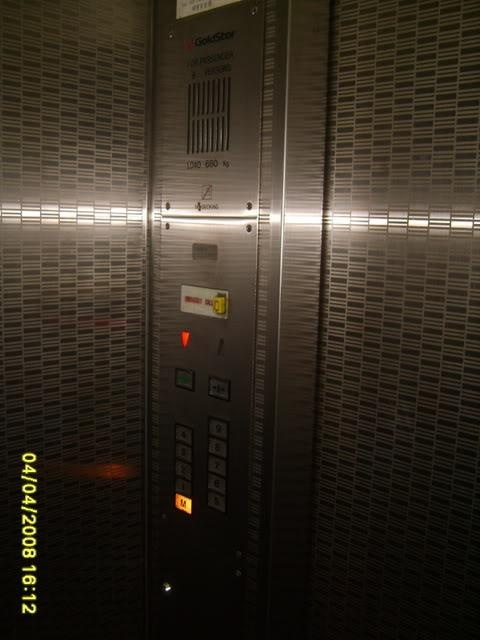1: (174, 476, 194, 496)
2: (174, 458, 194, 480)
4: (174, 422, 194, 445)
6: (206, 469, 229, 496)
7: (206, 453, 229, 478)
9: (206, 416, 229, 441)
M: (174, 490, 194, 515)
alarm: (212, 292, 227, 317)
blur: (206, 374, 232, 402), (206, 488, 229, 514), (173, 365, 195, 392), (206, 435, 229, 457), (174, 443, 194, 462), (158, 580, 177, 597)
